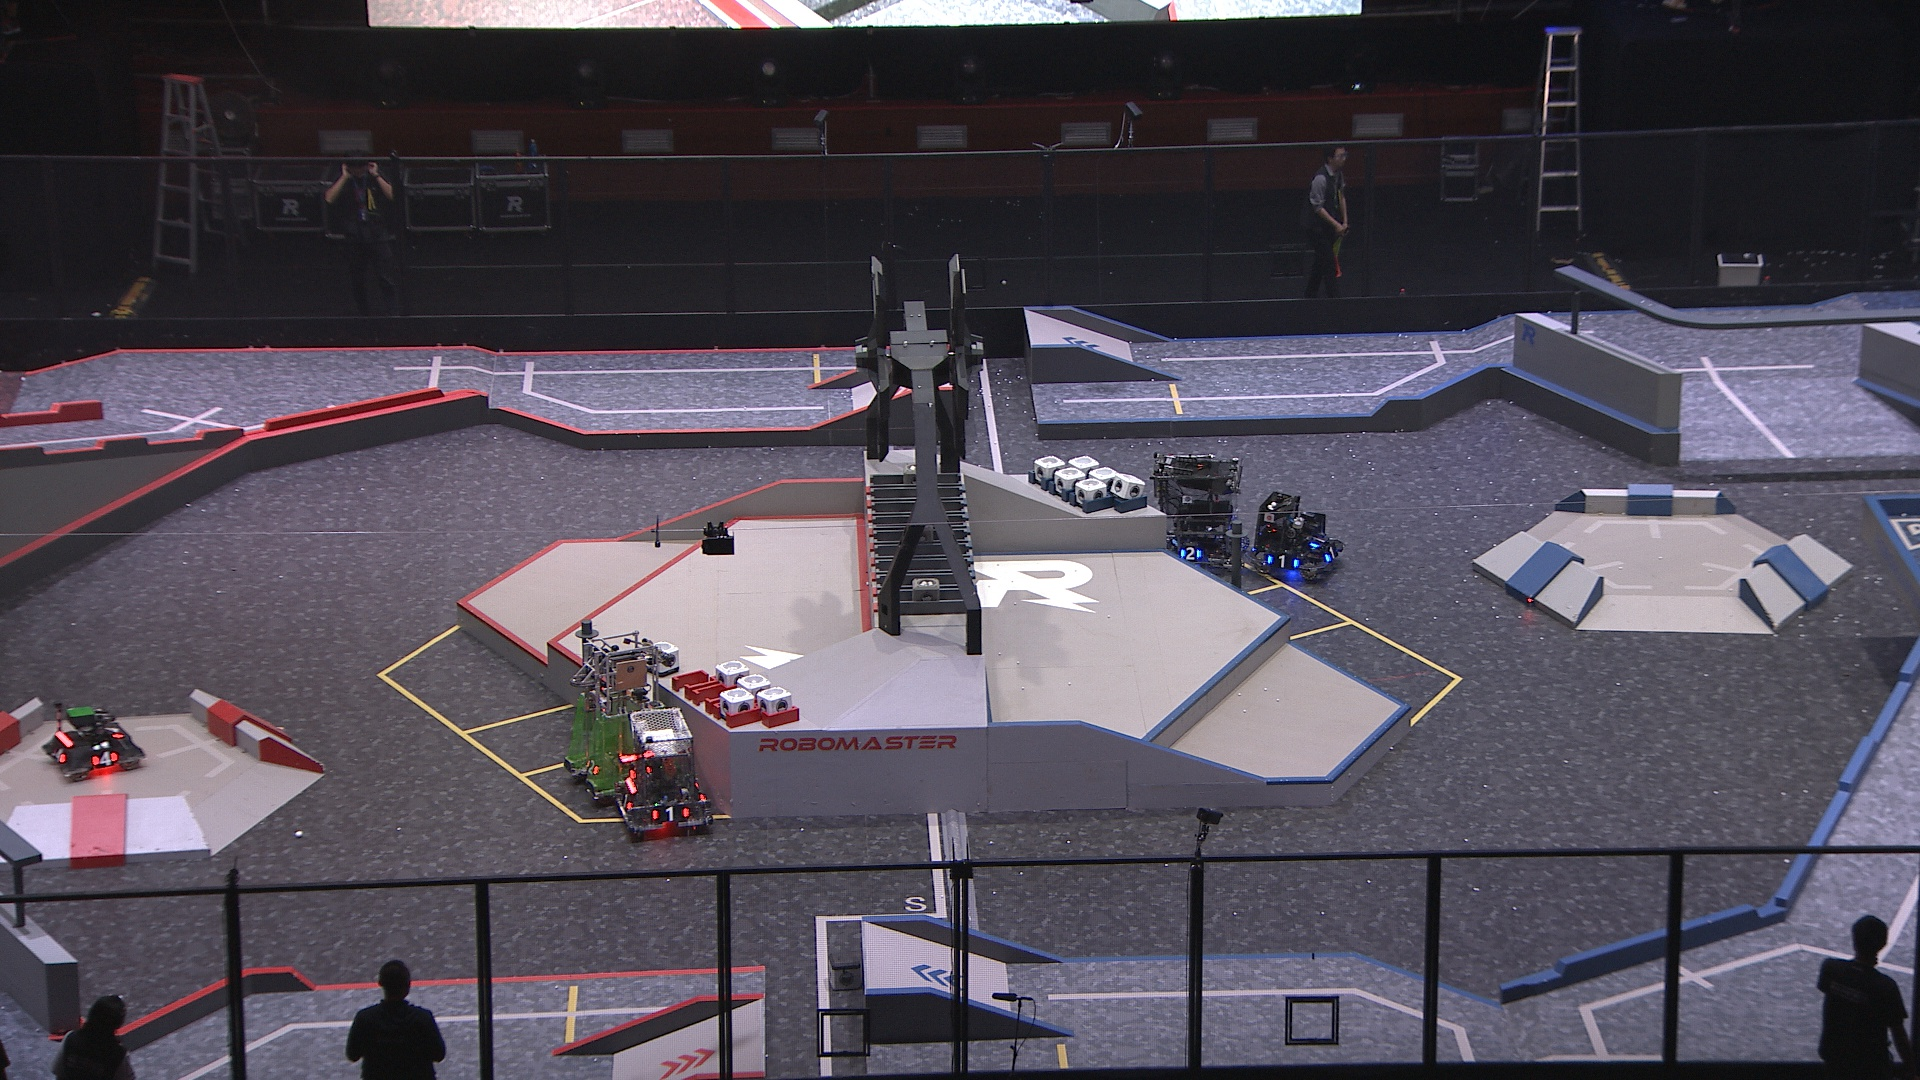armor: (650, 804, 694, 822), (91, 746, 117, 770), (1266, 555, 1300, 571), (1179, 547, 1204, 564), (102, 723, 121, 741), (51, 746, 69, 766), (1321, 546, 1338, 564), (618, 793, 633, 808), (583, 760, 597, 774), (1309, 535, 1324, 549)
car: (558, 628, 684, 806), (615, 705, 713, 839), (1145, 455, 1247, 572), (1247, 491, 1346, 585), (36, 703, 145, 779)
